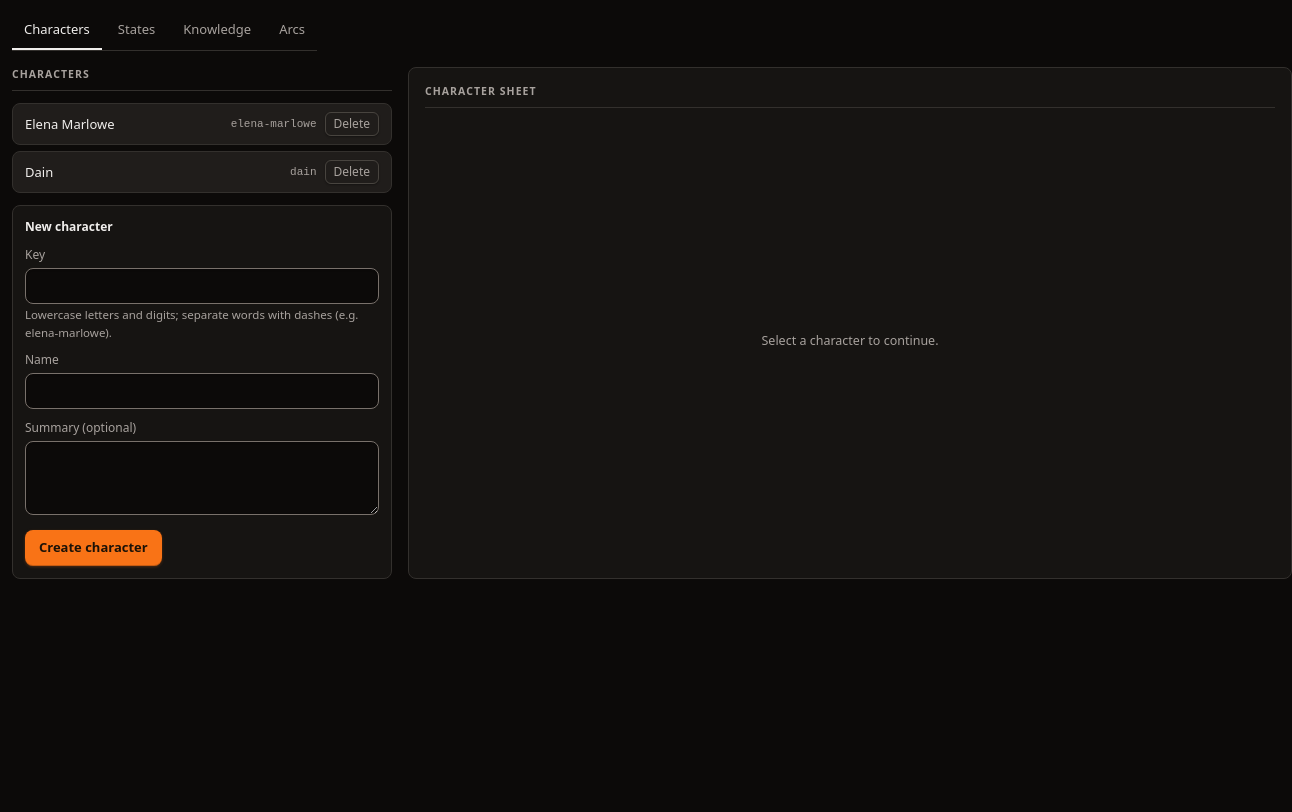
Scenario: CharacterPanel › selects a character and shows its sheet with the read-only entity link
Click the button with test id "character-select-c2" at (154, 172), box [25, 160, 282, 184]
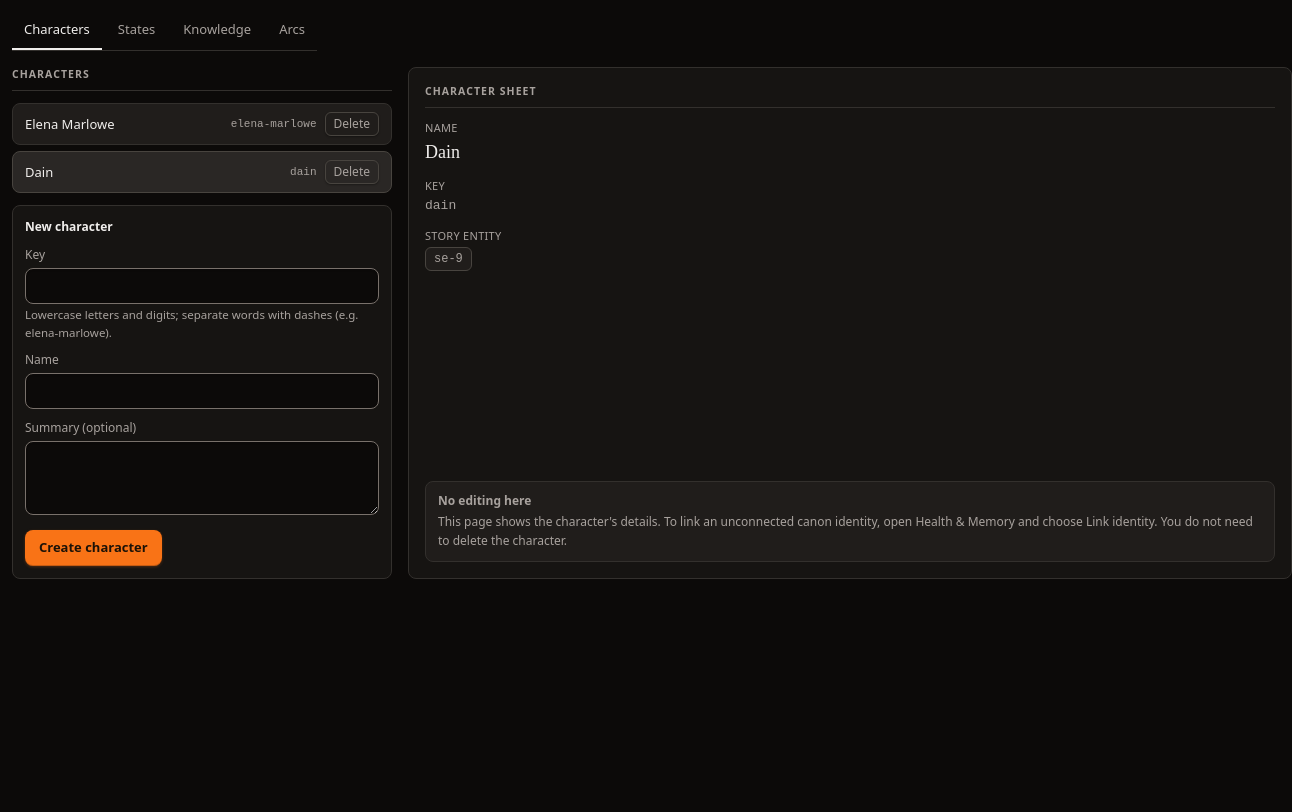
Expected: the text with test id "character-sheet-name" reads "Dain", [425, 142, 460, 162]
Expected: the text with test id "character-sheet-entity" reads "se-9", [434, 252, 463, 266]
Expected: the element with test id "character-sheet-noedit" is shown, [425, 481, 1275, 562]
